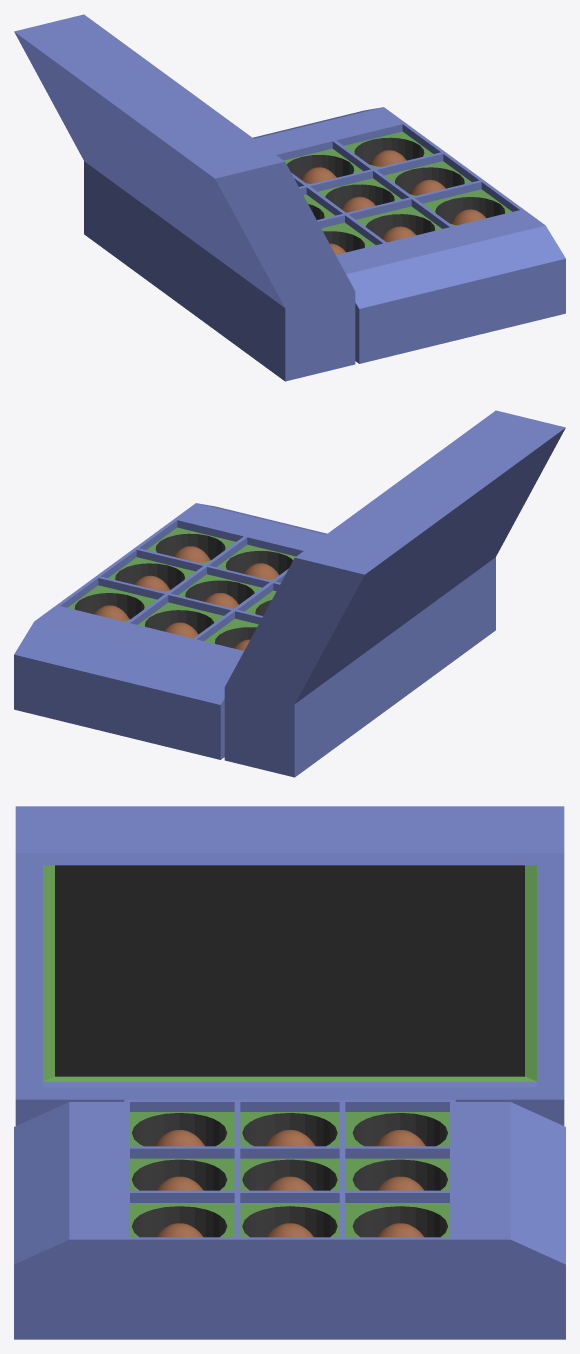
File: whackamole Machine.fbx
3 renders of one model, top to bottom at view 1: azimuth 30°, elevation 25°; view 2: azimuth 150°, elevation 25°; view 3: azimuth 270°, elevation 25°, orthographic. The views are drawn at different scales.
Visible parts, largest first — view 1: Sphere.001; view 2: Sphere.001; view 3: Sphere.001.
Boxes of the visible parts, left/top/right/bottom form: Sphere.001: left=14, top=14, right=565, bottom=381; Sphere.001: left=14, top=410, right=565, bottom=777; Sphere.001: left=14, top=806, right=565, bottom=1339.
Size of the model in its own units: 1000 by 601 by 1000.
